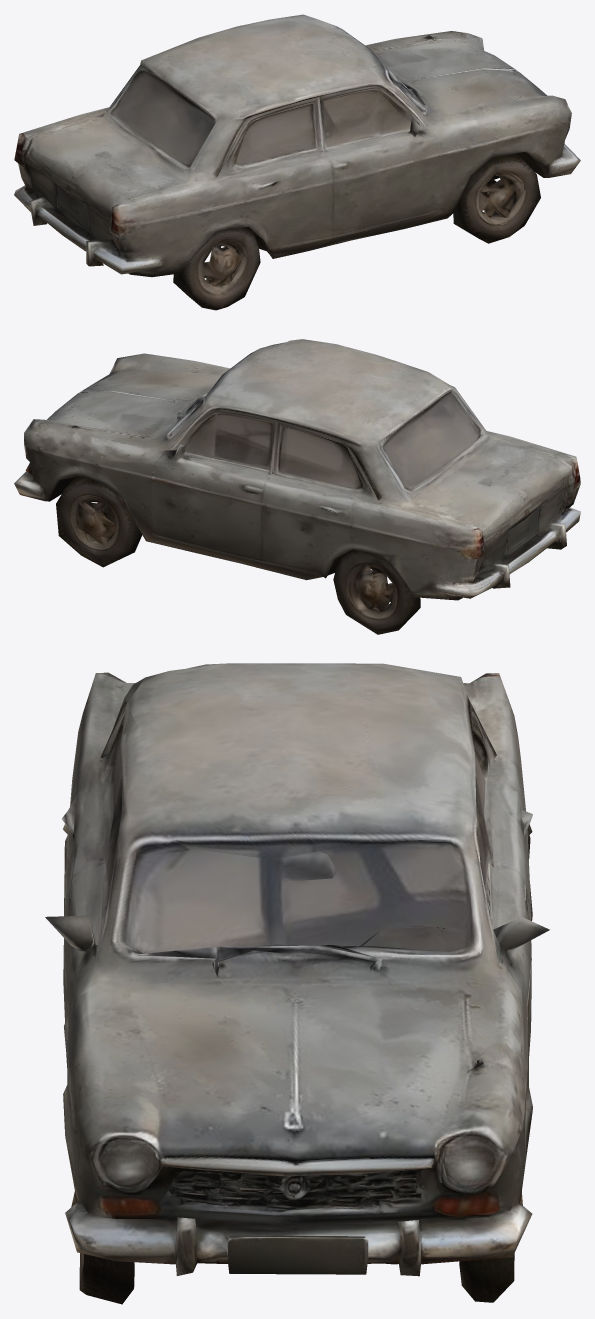
Rendered from e_volga.glb.
3 renders of one model, top to bottom at view 1: azimuth 30°, elevation 25°; view 2: azimuth 150°, elevation 25°; view 3: azimuth 270°, elevation 25°, orthographic. The views are drawn at different scales.
Parts seen in each view (by area): view 1: tripo_node_bfd651e4-126a-4ee7-9439-c075ebd8d233; view 2: tripo_node_bfd651e4-126a-4ee7-9439-c075ebd8d233; view 3: tripo_node_bfd651e4-126a-4ee7-9439-c075ebd8d233.
Boxes of the visible parts, x1,y1,x2,y2 form: tripo_node_bfd651e4-126a-4ee7-9439-c075ebd8d233: [14, 14, 580, 310]; tripo_node_bfd651e4-126a-4ee7-9439-c075ebd8d233: [14, 339, 580, 634]; tripo_node_bfd651e4-126a-4ee7-9439-c075ebd8d233: [45, 663, 549, 1304].
Bounding box in the file's own units: 1 × 0.3888 × 0.4569.
1 material, 1 textured.
